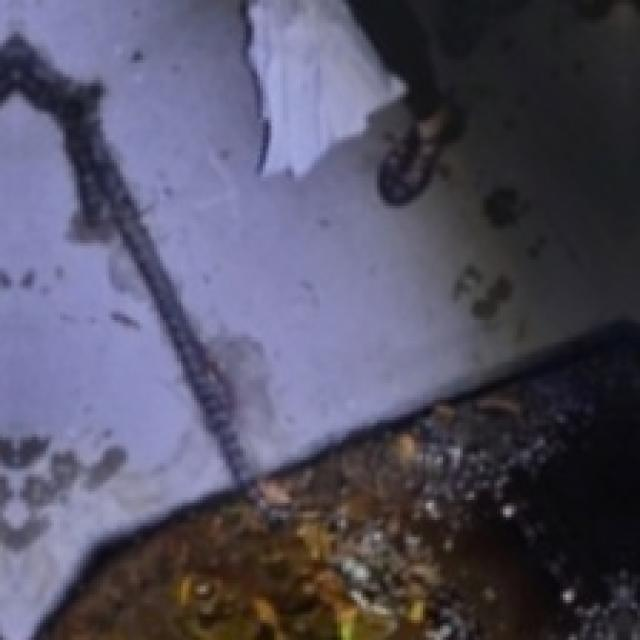king cobra: (0, 34, 263, 506)
